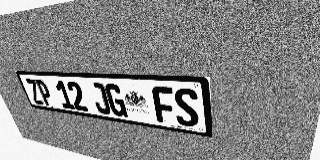1: (53, 80, 75, 110)
2: (66, 81, 88, 112)
F: (151, 86, 177, 125)
G: (104, 83, 128, 117)
J: (89, 82, 112, 115)
P: (34, 79, 55, 107)
S: (173, 87, 200, 128)
Z: (24, 79, 45, 105)
